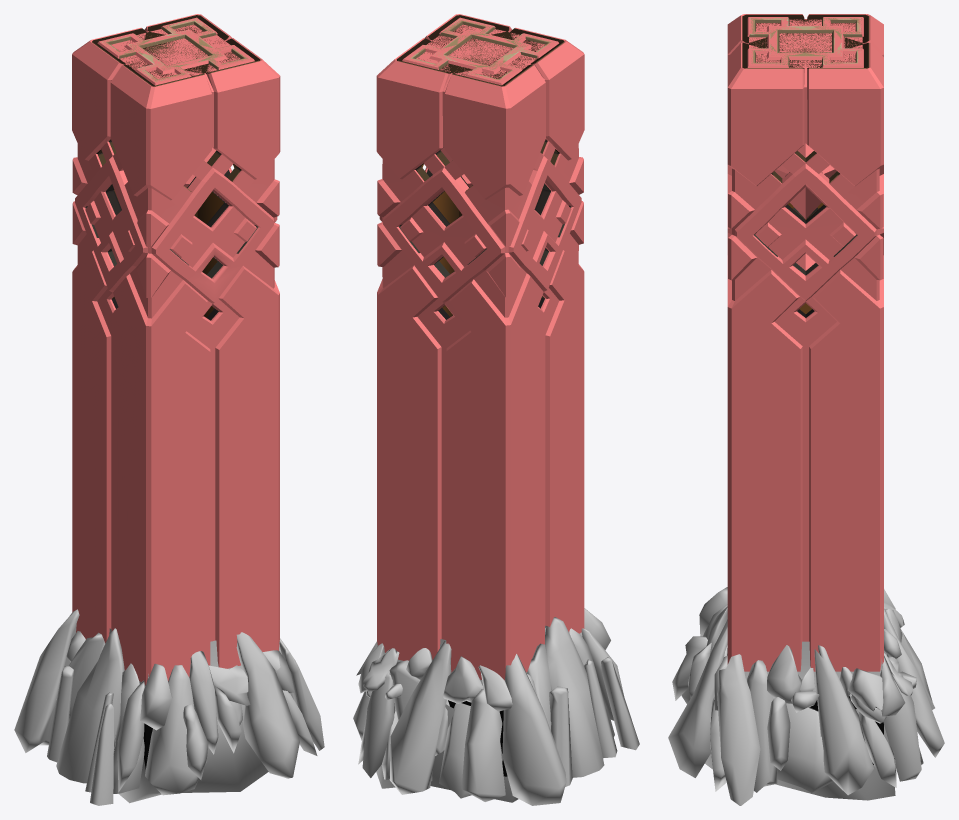
File: Pillar.fbx
3 views of the same model, side by side, from view 1: azimuth 30°, elevation 25°; view 2: azimuth 150°, elevation 25°; view 3: azimuth 270°, elevation 25° (orthographic).
Parts seen in each view (by area): view 1: Eff_SkillObj_PrimoPillar_Model, Eff_SkillObj_PrimoPillar_Gallet_Model, SkillObj_PrimoPillar_Model; view 2: Eff_SkillObj_PrimoPillar_Model, Eff_SkillObj_PrimoPillar_Gallet_Model, SkillObj_PrimoPillar_Model; view 3: Eff_SkillObj_PrimoPillar_Model, Eff_SkillObj_PrimoPillar_Gallet_Model, SkillObj_PrimoPillar_Model, Eff_Model_Box_01.
Boxes of the visible parts, x1=… form: Eff_SkillObj_PrimoPillar_Model: x1=72, y1=14, x2=280, y2=768; Eff_SkillObj_PrimoPillar_Gallet_Model: x1=14, y1=609, x2=324, y2=805; SkillObj_PrimoPillar_Model: x1=85, y1=15, x2=260, y2=320; Eff_SkillObj_PrimoPillar_Model: x1=376, y1=14, x2=584, y2=776; Eff_SkillObj_PrimoPillar_Gallet_Model: x1=353, y1=608, x2=639, y2=805; SkillObj_PrimoPillar_Model: x1=396, y1=15, x2=571, y2=319; Eff_SkillObj_PrimoPillar_Model: x1=727, y1=14, x2=883, y2=764; Eff_SkillObj_PrimoPillar_Gallet_Model: x1=668, y1=587, x2=944, y2=805; SkillObj_PrimoPillar_Model: x1=742, y1=14, x2=869, y2=317; Eff_Model_Box_01: x1=727, y1=641, x2=886, y2=696.
Bounding box in the file's own units: 16.25 × 47.25 × 16.29.
